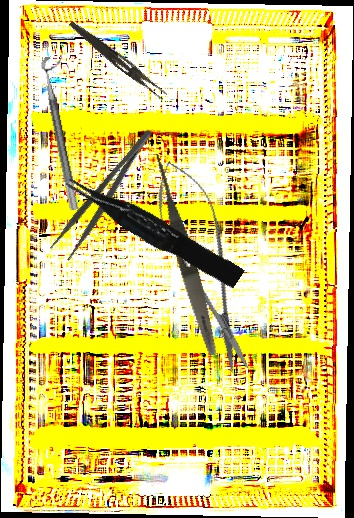Dressing Forceps: (47, 125, 166, 264), (146, 151, 223, 358), (65, 19, 170, 101)
Fixation Ring: (39, 54, 92, 211)
Micro Scissor: (142, 152, 267, 380)
Tissue Forceps: (63, 163, 245, 296)
